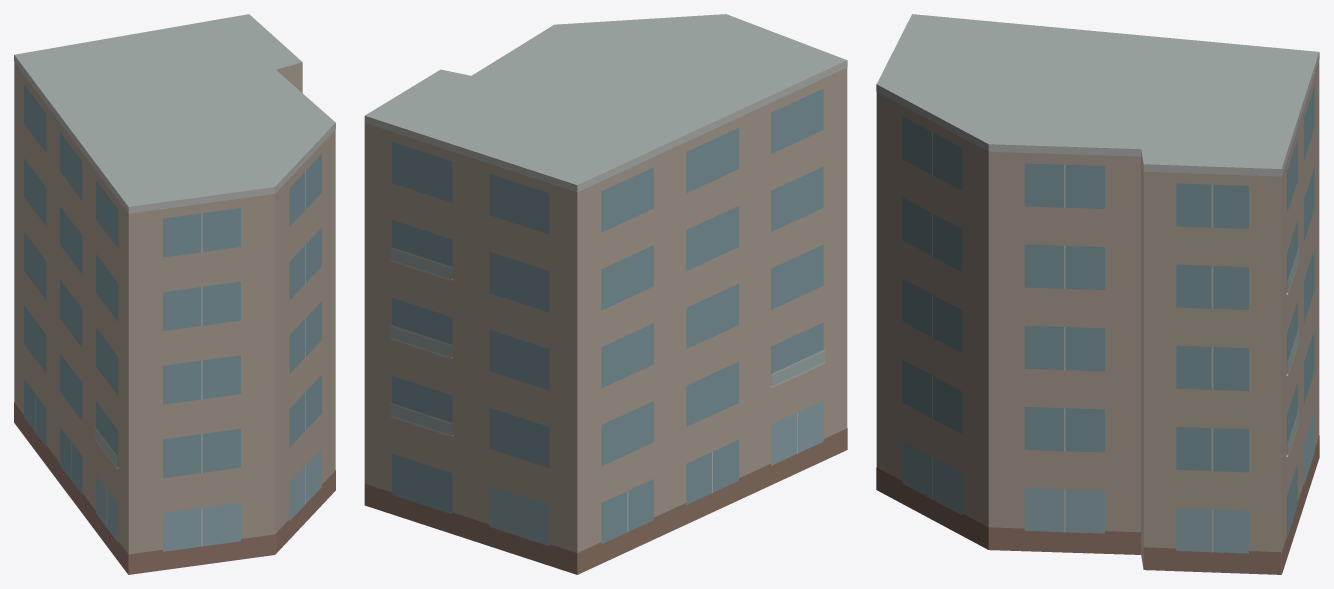
The model's file is survey-upis-32748117.glb.
3 views of the same model, side by side, from view 1: azimuth 30°, elevation 25°; view 2: azimuth 150°, elevation 25°; view 3: azimuth 270°, elevation 25° (orthographic). The views are drawn at different scales.
Parts seen in each view (by area): view 1: survey-upis-32748117.tmp; view 2: survey-upis-32748117.tmp; view 3: survey-upis-32748117.tmp.
Part boxes in pixels (left/top/right/bottom): survey-upis-32748117.tmp: left=14, top=14, right=335, bottom=574; survey-upis-32748117.tmp: left=364, top=14, right=847, bottom=574; survey-upis-32748117.tmp: left=876, top=14, right=1319, bottom=574.
Size of the model in its own units: 10.83 by 13.2 by 13.07.
